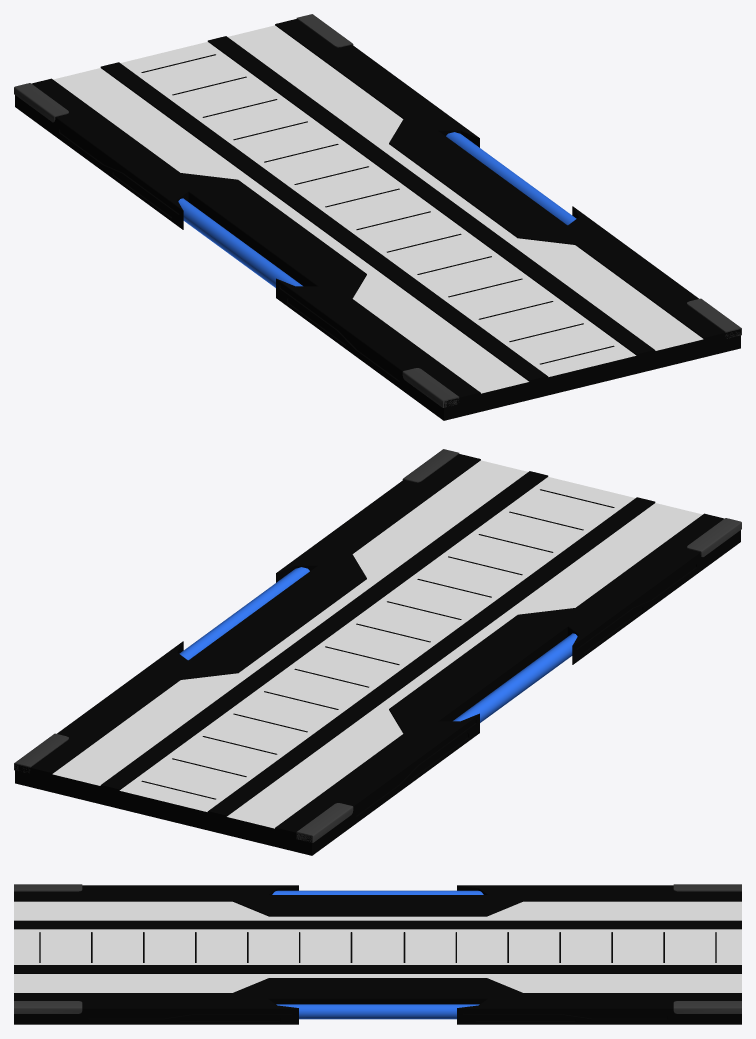
File: Sol.fbx
3 renders of one model, top to bottom at view 1: azimuth 30°, elevation 25°; view 2: azimuth 150°, elevation 25°; view 3: azimuth 270°, elevation 25°, orthographic. The views are drawn at different scales.
Visible parts, largest first — view 1: Sol; view 2: Sol; view 3: Sol.
Boxes of the visible parts, x1,y1,x2,y2 form: Sol: [14, 14, 741, 420]; Sol: [14, 449, 741, 855]; Sol: [14, 884, 741, 1024].
Size of the model in its own units: 403 by 26.28 by 1000.
